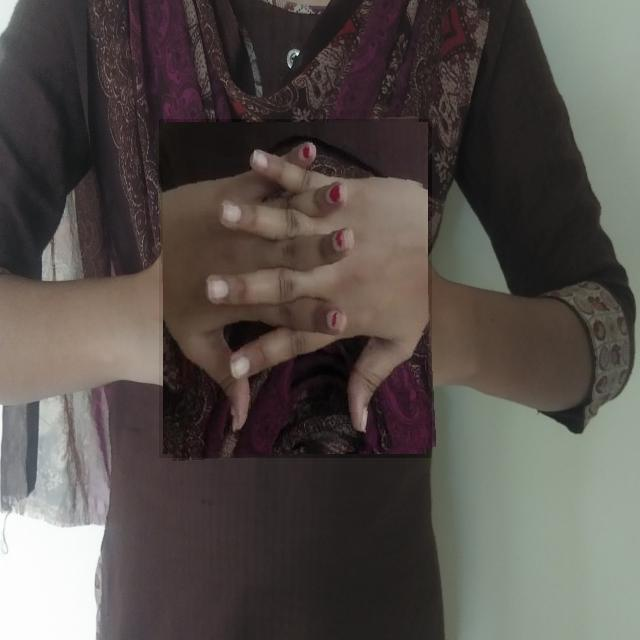W: (159, 119, 432, 458)
